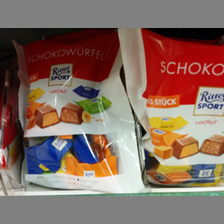chocolate: (16, 34, 141, 191), (128, 30, 224, 186)
